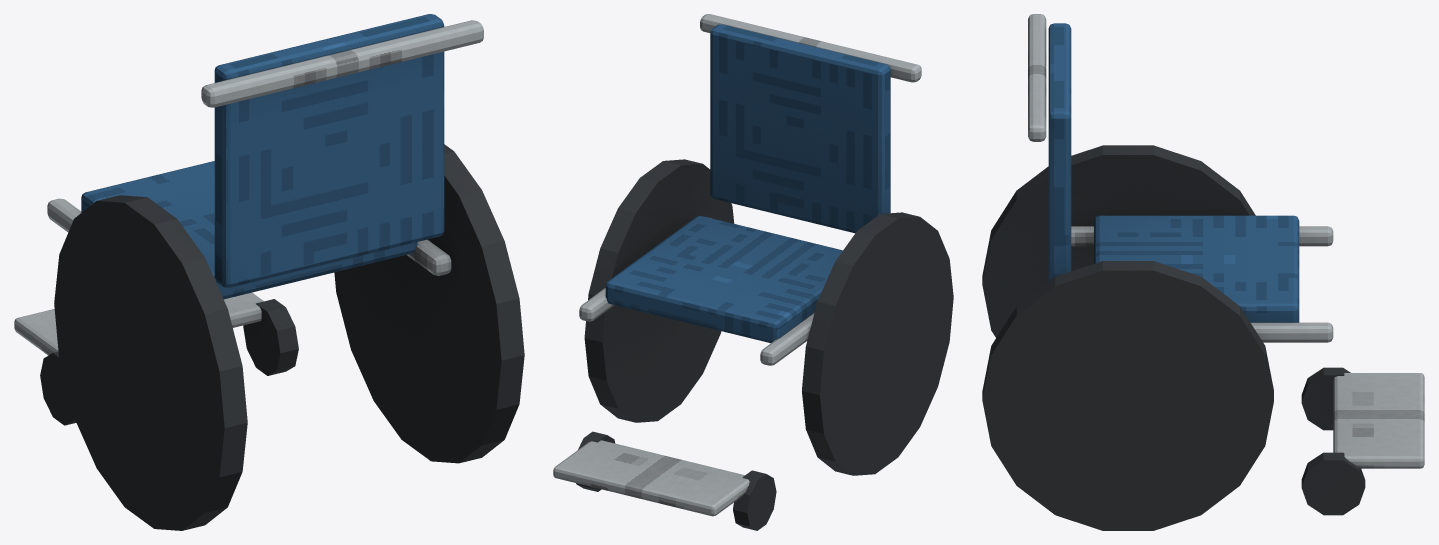
The model's file is base_wheelchair.glb.
The picture shows the model from 3 angles, left to right: view 1: azimuth 30°, elevation 25°; view 2: azimuth 150°, elevation 25°; view 3: azimuth 270°, elevation 25°; orthographic projection. The views are drawn at different scales.
Parts seen in each view (by area): view 1: base_wheelchair; view 2: base_wheelchair; view 3: base_wheelchair.
Boxes of the visible parts, box(x1,y1,x2,y2) form: base_wheelchair: box(14, 14, 524, 530); base_wheelchair: box(553, 14, 953, 530); base_wheelchair: box(982, 14, 1424, 530).
Size of the model in its own units: 0.65 by 0.9716 by 0.97.
3 materials, 3 textured.
